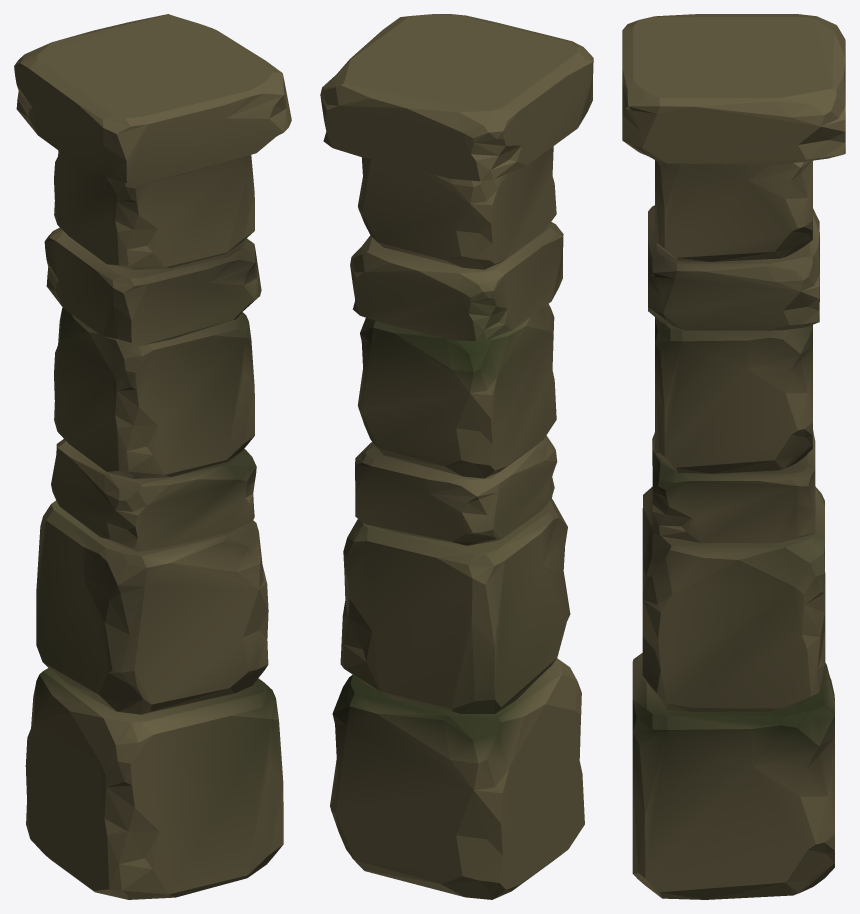
Rendered from ENV_Stone_Pillar_02.fbx.
3 renders of one model, left to right at view 1: azimuth 30°, elevation 25°; view 2: azimuth 150°, elevation 25°; view 3: azimuth 270°, elevation 25°, orthographic.
Parts seen in each view (by area): view 1: ENV_Stone_Pillar_02; view 2: ENV_Stone_Pillar_02; view 3: ENV_Stone_Pillar_02.
Boxes of the visible parts, x1=… form: ENV_Stone_Pillar_02: x1=14, y1=14, x2=291, y2=899; ENV_Stone_Pillar_02: x1=320, y1=14, x2=593, y2=899; ENV_Stone_Pillar_02: x1=622, y1=14, x2=845, y2=899.
Bounding box in the file's own units: 120 × 486 × 122.
